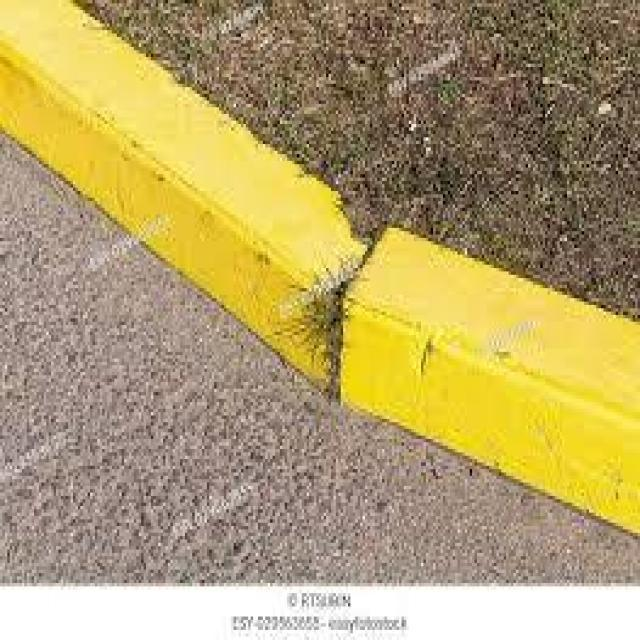curb: (1, 4, 640, 534)
